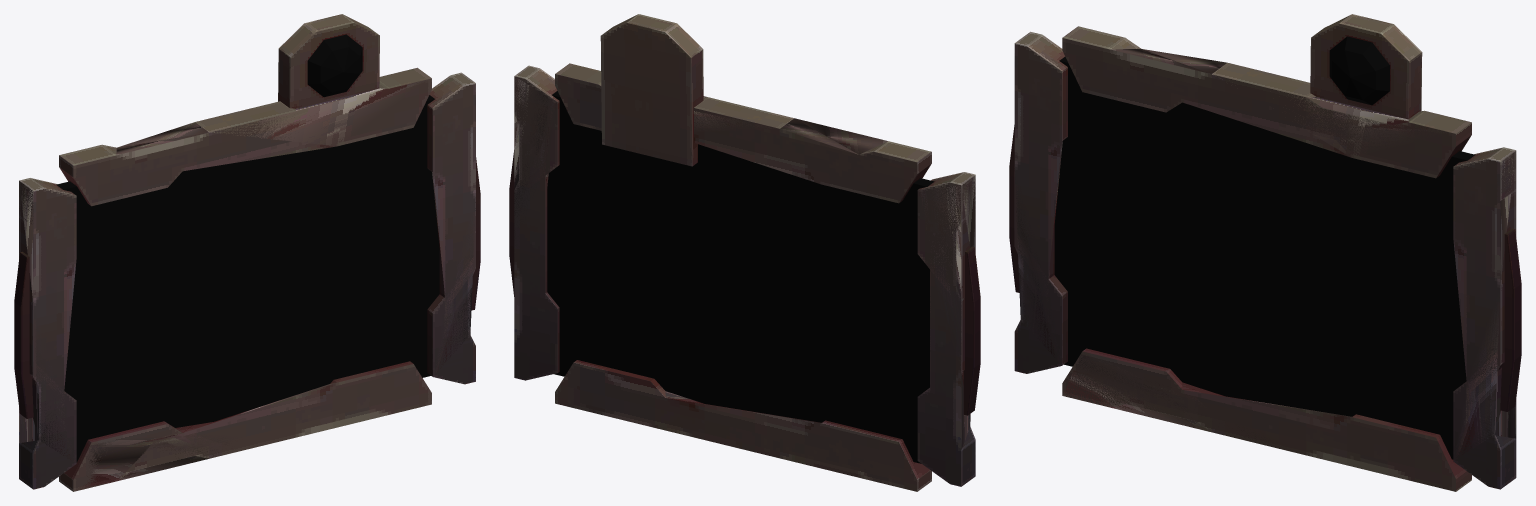
The model's file is item_film_filter_darken.glb.
3 views of the same model, side by side, from view 1: azimuth 30°, elevation 25°; view 2: azimuth 150°, elevation 25°; view 3: azimuth 330°, elevation 25° (orthographic). The views are drawn at different scales.
Visible parts, largest first — view 1: Cube, IndicatorTab; view 2: Cube, IndicatorTab; view 3: Cube, IndicatorTab.
Part boxes in pixels (left/top/right/bottom): Cube: left=14, top=67, right=480, bottom=491; IndicatorTab: left=278, top=14, right=379, bottom=108; Cube: left=509, top=63, right=980, bottom=491; IndicatorTab: left=600, top=14, right=703, bottom=166; Cube: left=1009, top=26, right=1521, bottom=491; IndicatorTab: left=1310, top=14, right=1422, bottom=119.
Size of the model in its own units: 0.2824 by 0.2327 by 0.0219.
Materials: 1 (1 with a texture image).
